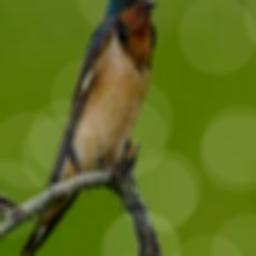Swallow: (7, 0, 156, 256)
